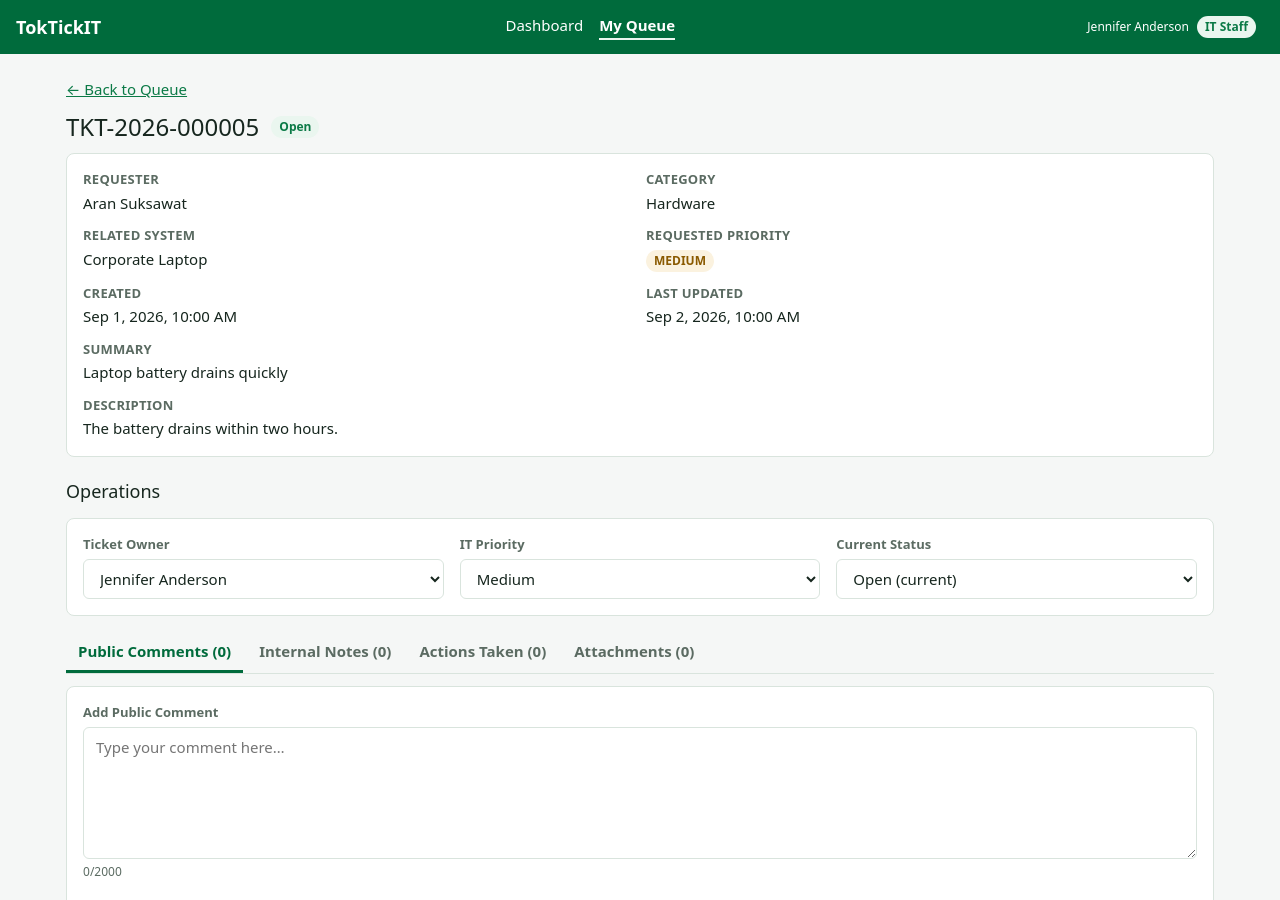
IT Staff Ticket workflow controls › UI-20: shows the server's reasons when it answers RESOLUTION_BLOCKED, and refreshes the blockers
This screenshot has width=1280, height=900.
Select "Resolved" in the dropdown labelled "Current Status". click: (1017,579)
box: [836,559,1197,599]
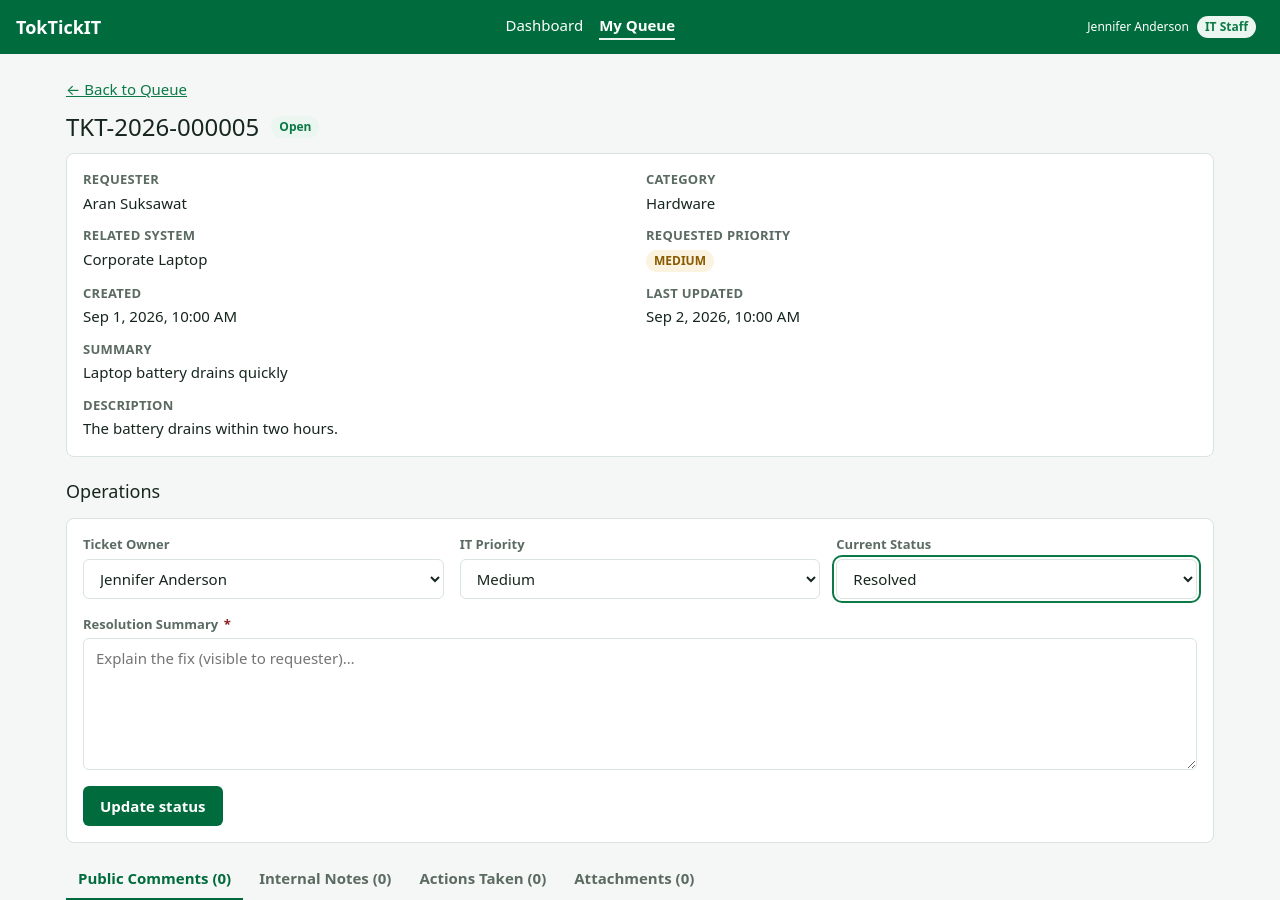
Type "Replaced the battery." into the text box labelled "Resolution Summary *". click: (640,704)
box: [83,638,1197,770]
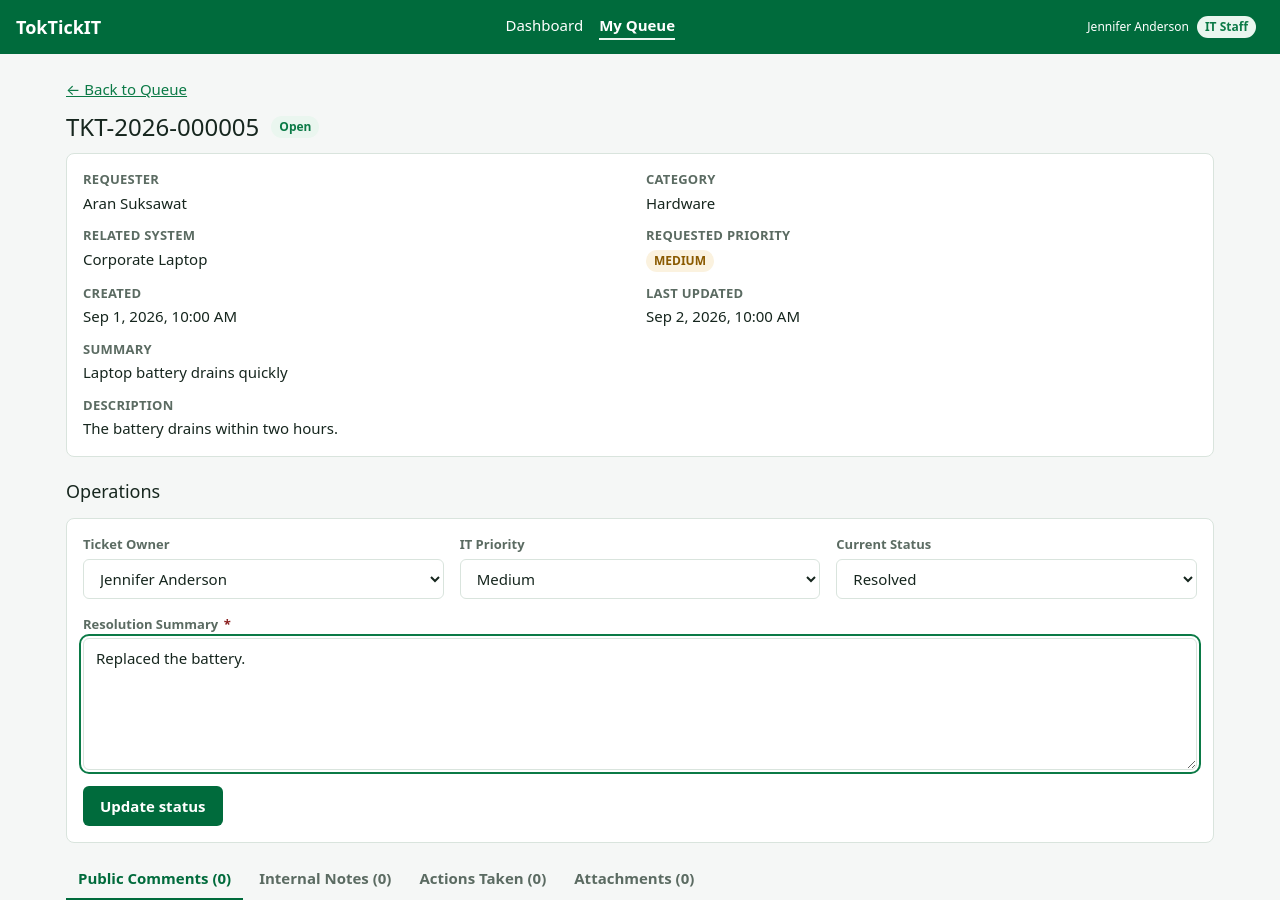
Click the button "Update status". click: (153,806)
box: [83,786,222,826]
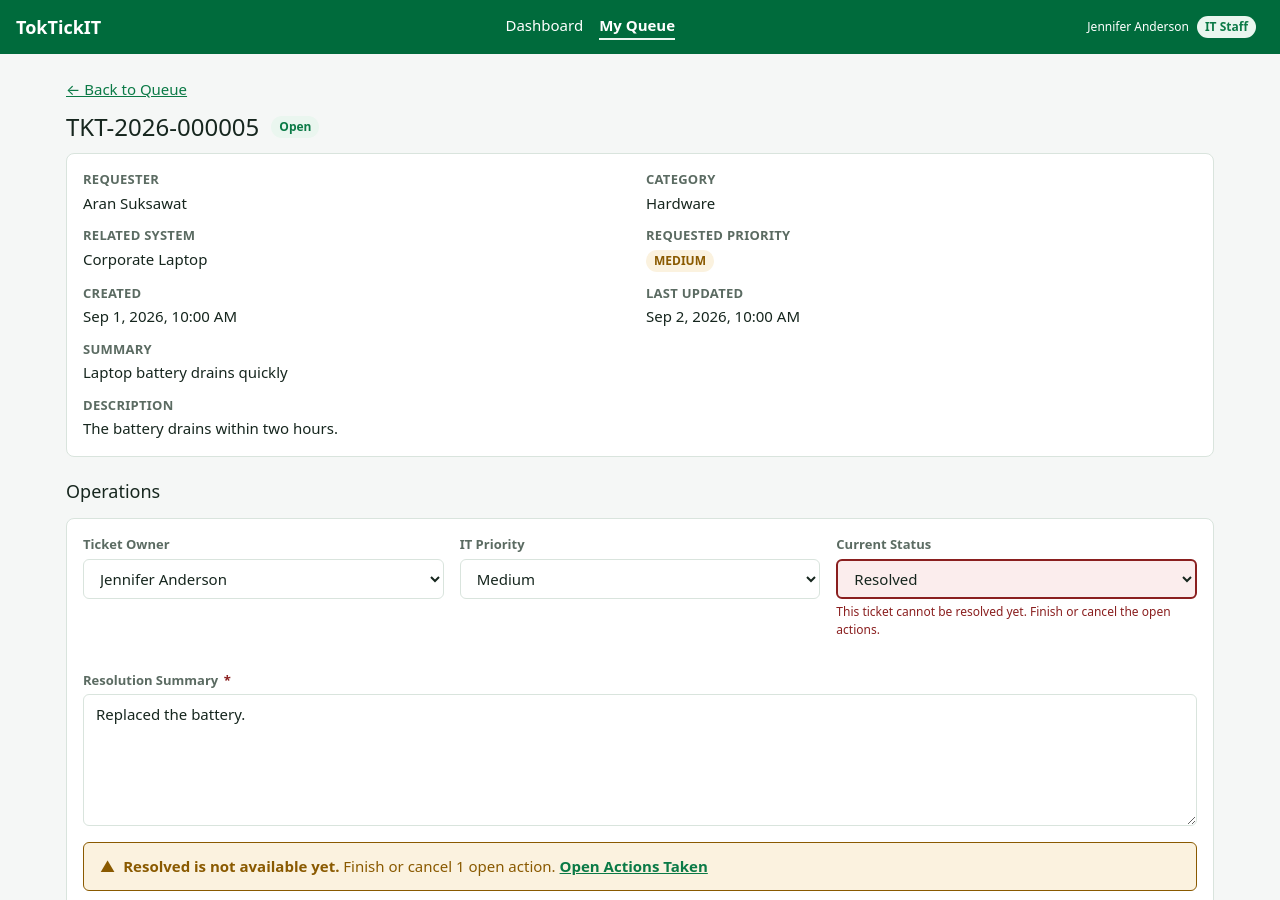
Expected: the text "This ticket cannot be resolved yet. Finish or cancel the open actions." is shown, [836,603,1197,639]
